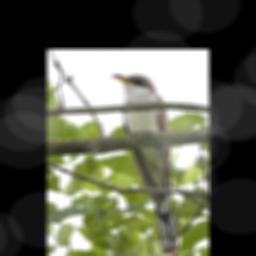Cuckoo: (111, 73, 178, 256)
